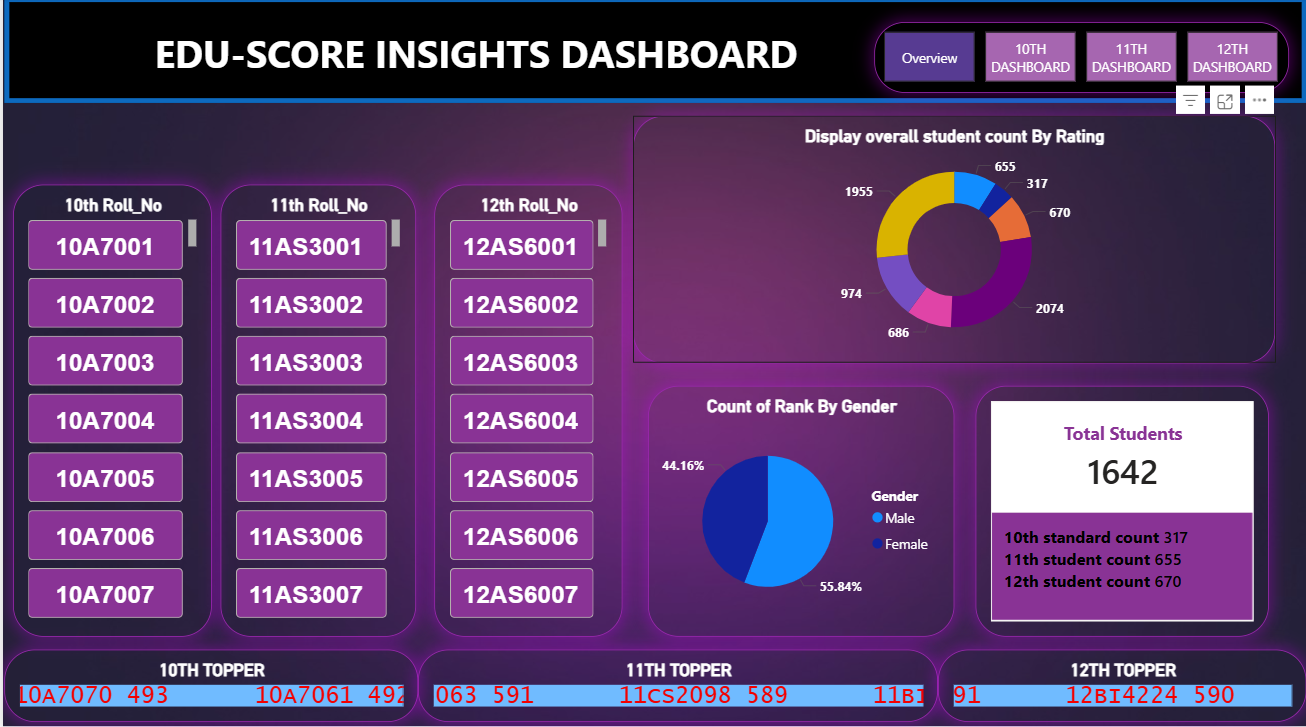

This screenshot's page, from the dashboard's own definition file:
{"tool":"powerbi","page":{"name":"Overview","canvas":[1280,720],"ordinal":0},"visuals":[{"type":"shape","box":[1.2,0,1278.5,104.3],"z":0},{"type":"textbox","box":[23.3,24.5,882.2,69.9],"z":1000},{"type":"pageNavigator","box":[855.8,24.4,407,69.8],"z":2000},{"type":"advancedSlicerVisual","title":" 10th Roll_No","fields":{"Values":["tenth.Roll_No"]},"box":[9.3,183.7,195.3,444.2],"z":3000},{"type":"advancedSlicerVisual","title":"12th Roll_No","fields":{"Values":["12th overall.Roll_No"]},"box":[423.3,183.7,184.9,444.2],"z":4000},{"type":"advancedSlicerVisual","title":"11th Roll_No","fields":{"Values":["11th overall.Roll_No"]},"box":[214,183.7,191.9,444.2],"z":5000},{"type":"pieChart","title":"Count of Rank By Gender","fields":{"Y":["CountNonNull(tenth.Rank)"],"Category":["tenth.Gender"]},"box":[633.1,381.6,300.6,246.6],"z":6000},{"type":"cardVisual","fields":{"Data":["11th overall.Total Students"]},"box":[954.6,381.6,288.3,246.6],"z":7000},{"type":"donutChart","title":"Display overall student count By Rating","fields":{"Y":["11th overall.11th student count","11th overall.10th standard count","11th overall.12th student count","Sum(12th overall.Teacher Rating)","Sum(Append1.Teacher_Rating 2)","Sum(tenth.Teacher_Rating)","Sum(11th overall.Teacher Rating)"]},"box":[618.6,116.3,630.2,243],"z":8000},{"type":"ScrollingTextVisual1448795304508","title":"10TH TOPPER","fields":{"Measure Absolute":["Sum(tenth.Total)"],"Category":["tenth.Roll_No"]},"box":[1.2,640.5,406.1,71.2],"z":9000},{"type":"ScrollingTextVisual1448795304508","title":"11TH TOPPER","fields":{"Category":["11th overall.Roll_No"],"Measure Absolute":["Sum(11th overall.Total)"]},"box":[407.4,640.5,510.4,71.2],"z":10000},{"type":"ScrollingTextVisual1448795304508","title":"12TH TOPPER","fields":{"Category":["12th overall.Roll_No"],"Measure Absolute":["Sum(12th overall.Total)"]},"box":[917.8,640.5,362,71.2],"z":11000}]}

Visuals, with their boxes in screenshot pixels (x1, y1, x2, y2), scaled from the page's 1280x720 canvas onto the 1306x727 screenshot:
shape: <box>1,0,1305,105</box>
textbox: <box>24,25,924,95</box>
pageNavigator: <box>873,25,1288,95</box>
" 10th Roll_No" advancedSlicerVisual: <box>9,185,209,634</box>
"12th Roll_No" advancedSlicerVisual: <box>432,185,621,634</box>
"11th Roll_No" advancedSlicerVisual: <box>218,185,414,634</box>
"Count of Rank By Gender" pieChart: <box>646,385,953,634</box>
cardVisual - 11th overall.Total Students: <box>974,385,1268,634</box>
"Display overall student count By Rating" donutChart: <box>631,117,1274,363</box>
"10TH TOPPER" ScrollingTextVisual1448795304508: <box>1,647,416,719</box>
"11TH TOPPER" ScrollingTextVisual1448795304508: <box>416,647,936,719</box>
"12TH TOPPER" ScrollingTextVisual1448795304508: <box>936,647,1305,719</box>
